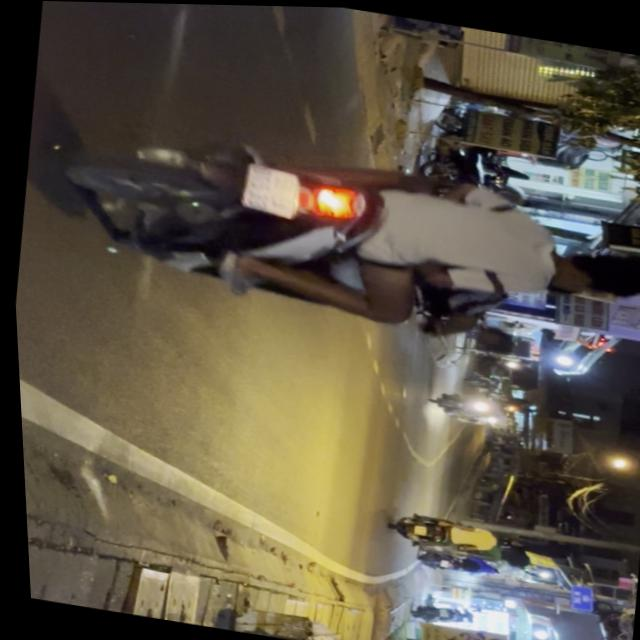licenseplate: (8, 101, 640, 369)
motorcyclist: (545, 237, 640, 305)
nohelmet: (240, 161, 301, 217)
